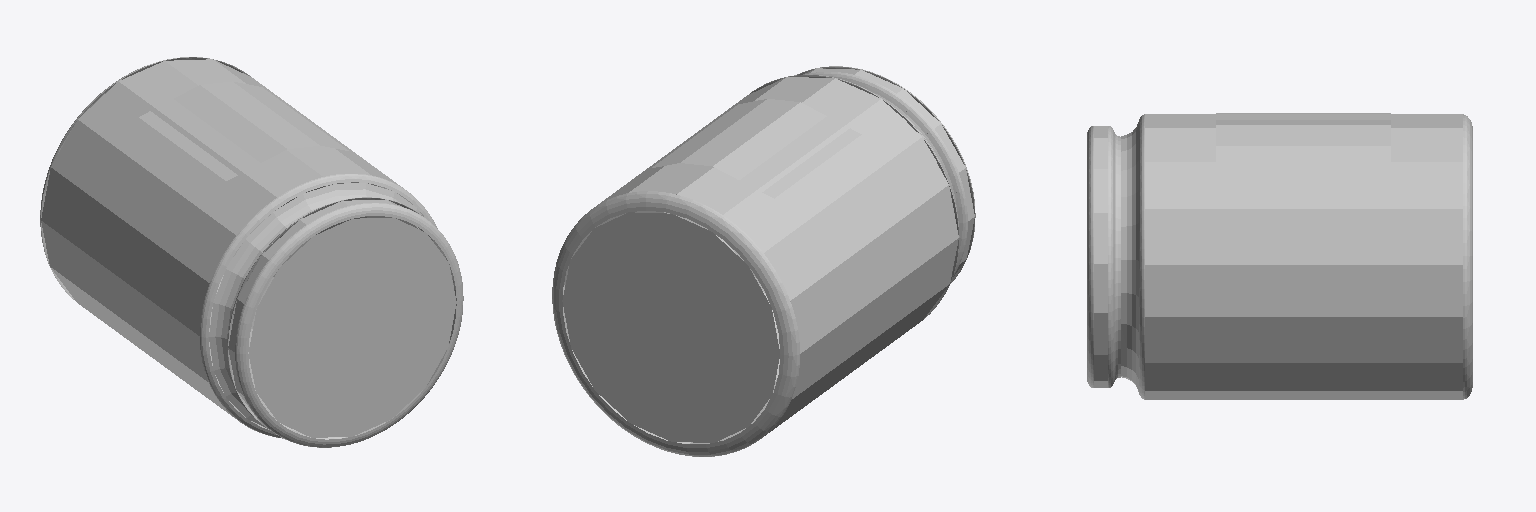
3 renders of one model, left to right at view 1: azimuth 30°, elevation 25°; view 2: azimuth 150°, elevation 25°; view 3: azimuth 270°, elevation 25°, orthographic.
Visible parts, largest first — view 1: ShapeIndexedFaceSet.005_ShapeIndexedFaceSet, ShapeIndexedFaceSet.001_ShapeIndexedFaceSet.002, ShapeIndexedFaceSet.002_ShapeIndexedFaceSet.003, ShapeIndexedFaceSet_ShapeIndexedFaceSet.001, ShapeIndexedFaceSet.004_ShapeIndexedFaceSet.005; view 2: ShapeIndexedFaceSet.005_ShapeIndexedFaceSet, ShapeIndexedFaceSet.003_ShapeIndexedFaceSet.004, ShapeIndexedFaceSet.004_ShapeIndexedFaceSet.005, ShapeIndexedFaceSet_ShapeIndexedFaceSet.001, ShapeIndexedFaceSet.002_ShapeIndexedFaceSet.003; view 3: ShapeIndexedFaceSet.005_ShapeIndexedFaceSet, ShapeIndexedFaceSet.002_ShapeIndexedFaceSet.003, ShapeIndexedFaceSet_ShapeIndexedFaceSet.001, ShapeIndexedFaceSet.004_ShapeIndexedFaceSet.005.
Part boxes in pixels (bbox=[...]): ShapeIndexedFaceSet.005_ShapeIndexedFaceSet: bbox=[41, 59, 423, 429]; ShapeIndexedFaceSet.001_ShapeIndexedFaceSet.002: bbox=[249, 217, 456, 437]; ShapeIndexedFaceSet.002_ShapeIndexedFaceSet.003: bbox=[200, 174, 463, 447]; ShapeIndexedFaceSet_ShapeIndexedFaceSet.001: bbox=[139, 81, 348, 180]; ShapeIndexedFaceSet.004_ShapeIndexedFaceSet.005: bbox=[40, 57, 278, 299]; ShapeIndexedFaceSet.005_ShapeIndexedFaceSet: bbox=[563, 77, 958, 443]; ShapeIndexedFaceSet.003_ShapeIndexedFaceSet.004: bbox=[562, 212, 779, 442]; ShapeIndexedFaceSet.004_ShapeIndexedFaceSet.005: bbox=[552, 191, 799, 456]; ShapeIndexedFaceSet_ShapeIndexedFaceSet.001: bbox=[652, 99, 861, 198]; ShapeIndexedFaceSet.002_ShapeIndexedFaceSet.003: bbox=[732, 66, 975, 318]; ShapeIndexedFaceSet.005_ShapeIndexedFaceSet: bbox=[1145, 114, 1462, 399]; ShapeIndexedFaceSet.002_ShapeIndexedFaceSet.003: bbox=[1087, 114, 1144, 399]; ShapeIndexedFaceSet_ShapeIndexedFaceSet.001: bbox=[1216, 113, 1390, 172]; ShapeIndexedFaceSet.004_ShapeIndexedFaceSet.005: bbox=[1463, 114, 1472, 399].
Size of the model in its own units: 8.13 by 8.19 by 11.